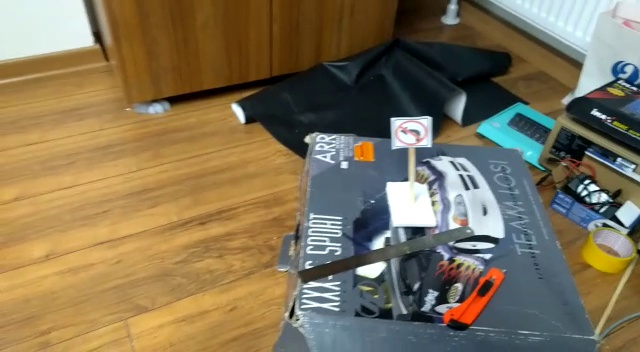sola_donulmez: (394, 117, 432, 148)
